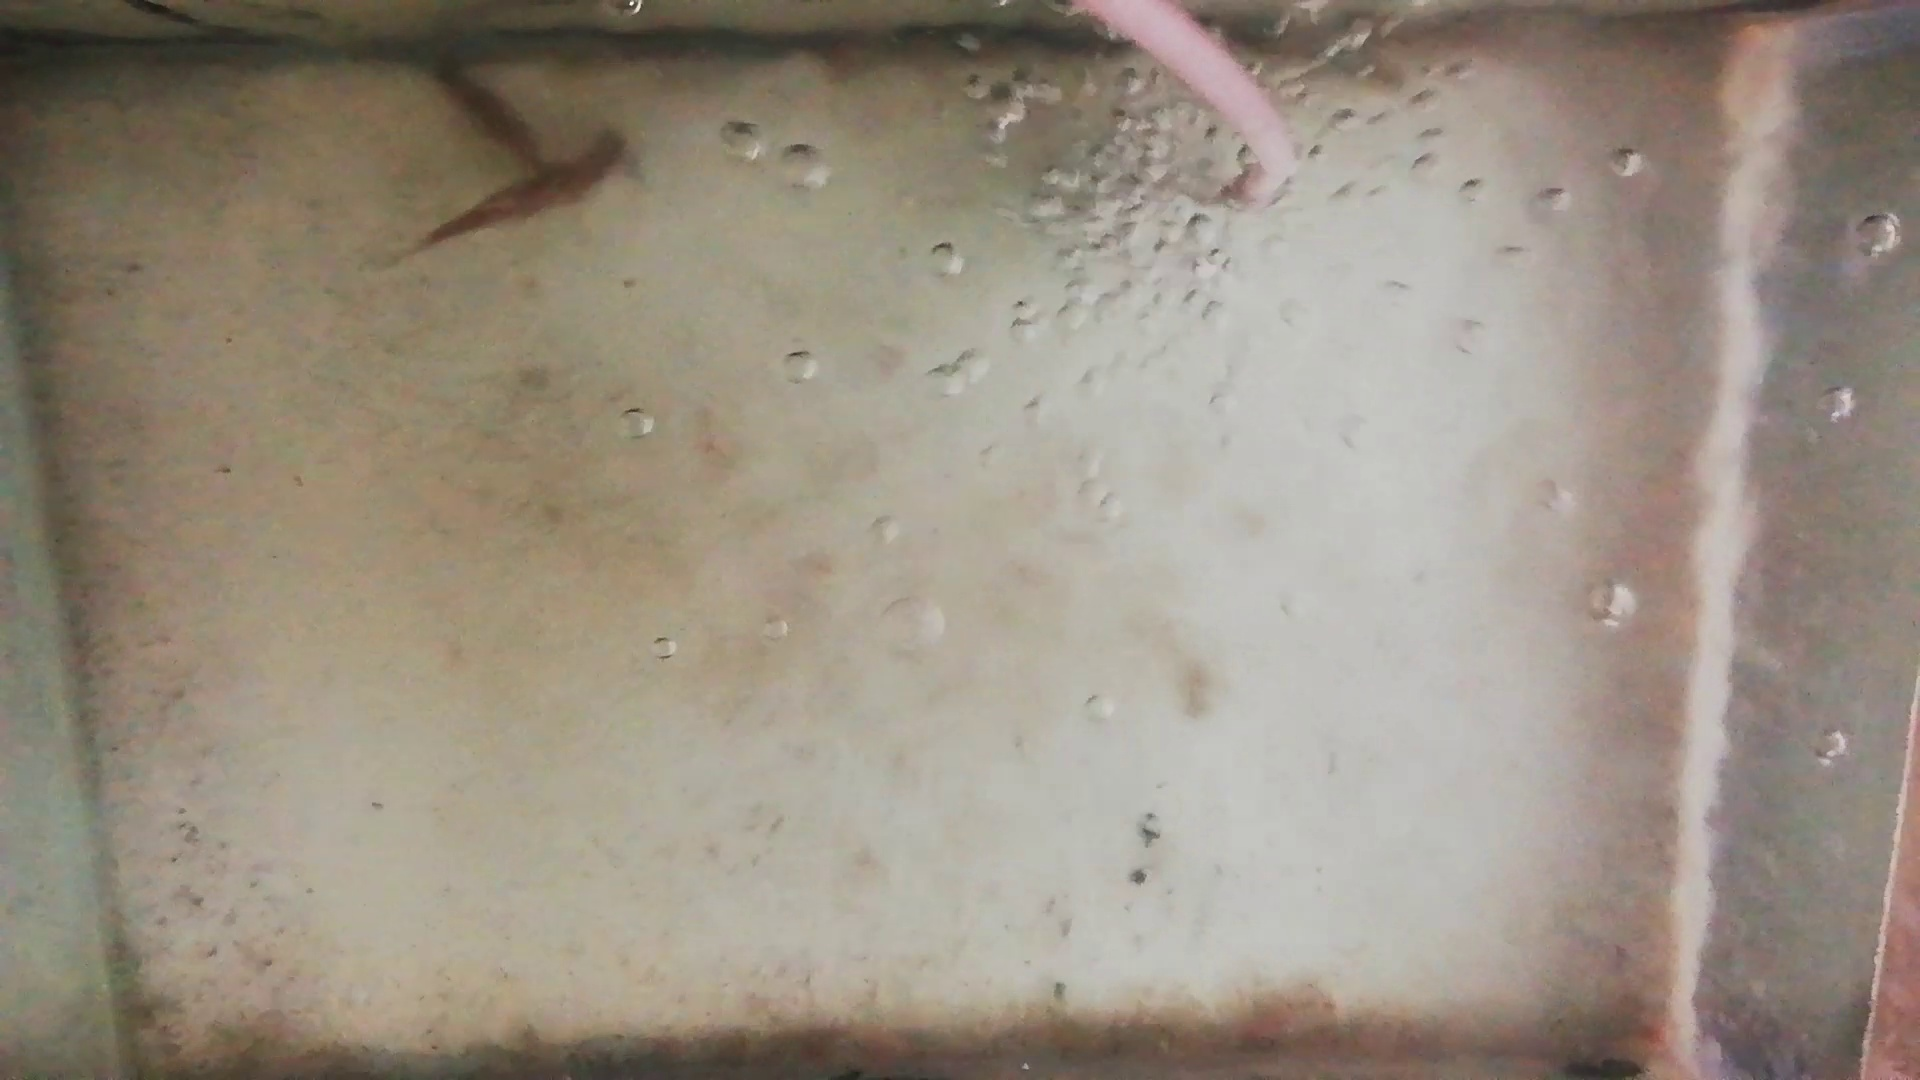fish: (417, 133, 626, 247), (410, 53, 541, 171)
